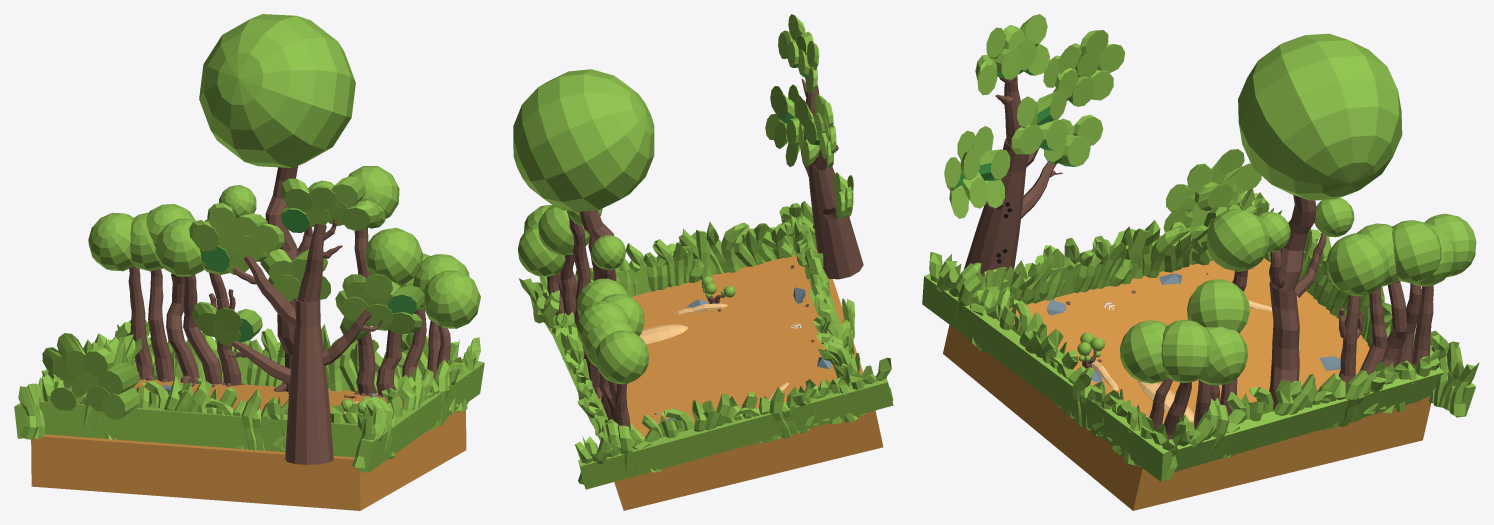
3 views of the same model, side by side, from view 1: azimuth 30°, elevation 25°; view 2: azimuth 150°, elevation 25°; view 3: azimuth 270°, elevation 25° (orthographic). The views are drawn at different scales.
Parts seen in each view (by area): view 1: group1756915309; view 2: group1756915309; view 3: group1756915309.
Boxes of the visible parts, bbox=[...] form: group1756915309: bbox=[14, 14, 484, 510]; group1756915309: bbox=[513, 14, 893, 510]; group1756915309: bbox=[922, 14, 1479, 510].
Bounding box in the file's own units: 0.2082 × 0.1912 × 0.2161.
